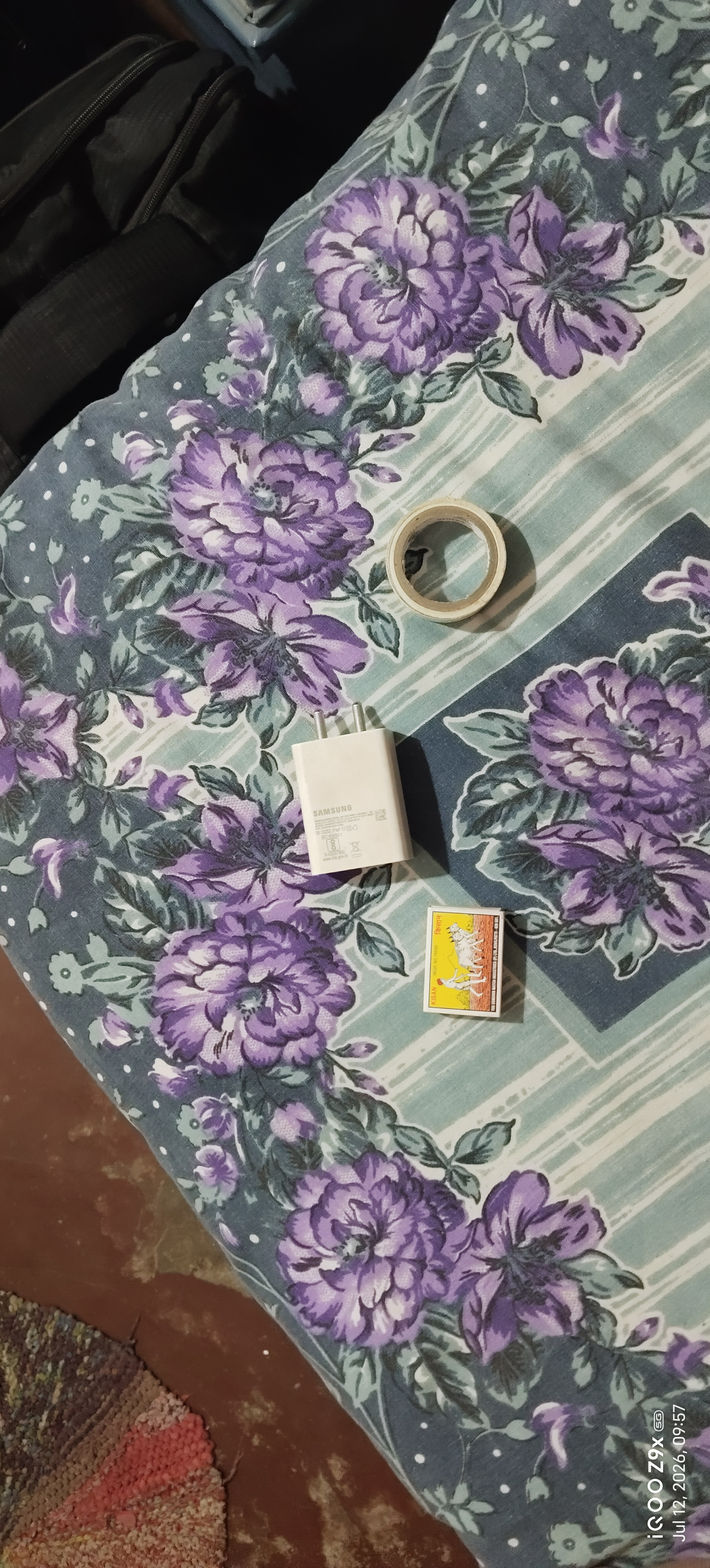charger: (274, 682, 434, 894)
matchbox: (410, 895, 518, 1031)
tape_roll: (373, 489, 531, 639)
